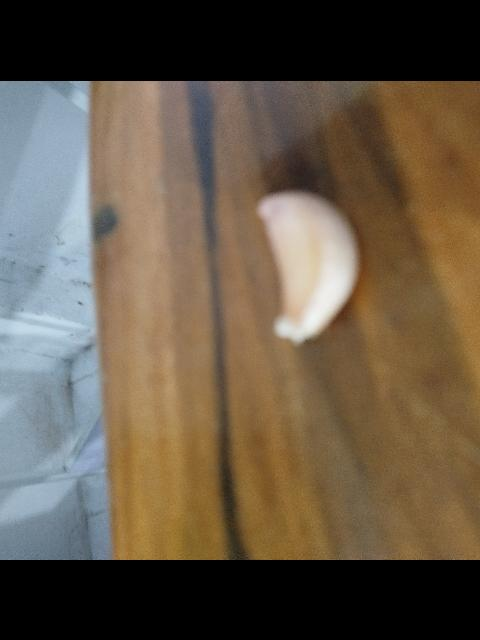garlic: (256, 189, 360, 343)
